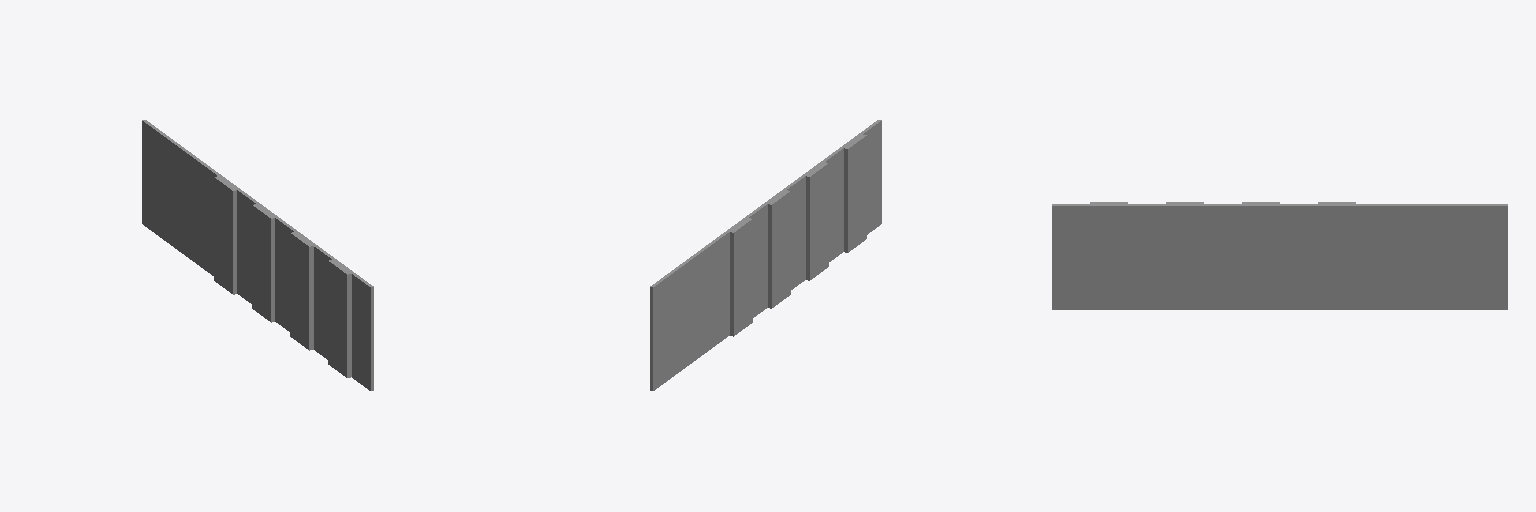
The model's file is Wall_Right.obj.
3 views of the same model, side by side, from view 1: azimuth 30°, elevation 25°; view 2: azimuth 150°, elevation 25°; view 3: azimuth 270°, elevation 25° (orthographic).
Parts seen in each view (by area): view 1: Wall_Right_Cube.005; view 2: Wall_Right_Cube.005; view 3: Wall_Right_Cube.005.
Part boxes in pixels (bbox=[...]): Wall_Right_Cube.005: bbox=[142, 120, 373, 390]; Wall_Right_Cube.005: bbox=[650, 120, 881, 390]; Wall_Right_Cube.005: bbox=[1052, 202, 1507, 309].
Size of the model in its own units: 0.4837 by 6.43 by 25.63.